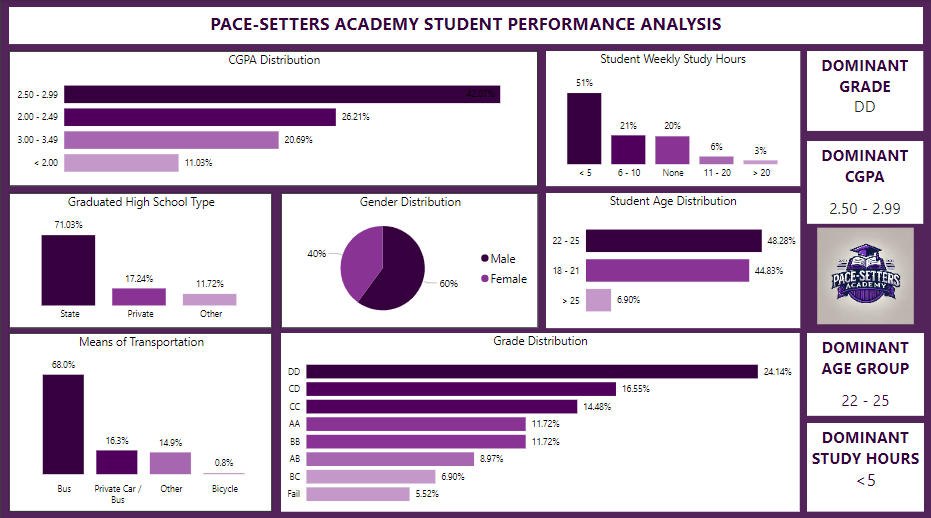

What the dashboard file says about the page in this screenshot:
{"tool":"powerbi","page":{"name":"Page 1","canvas":[1280,720],"ordinal":0},"visuals":[{"type":"columnChart","title":"Means of Transportation","fields":{"Category":["StudentsPerformance_with_headers.Transportation to the university"],"Y":["Sum(StudentsPerformance_with_headers.Taking notes in classes)"]},"box":[11,459.7,362,246.4],"z":0},{"type":"barChart","title":"Distribution of CGPA","fields":{"Y":["CountNonNull(StudentsPerformance_with_headers.Expected Cumulative grade point average in the graduation (/4.00))"],"Category":["StudentsPerformance_with_headers.Expected Cumulative grade point average in the graduation (/4.00)"]},"box":[11,71.6,728.1,185.8],"z":1},{"type":"textbox","box":[11,11,1258,50.9],"z":2},{"type":"pieChart","title":"Gender Distribution","fields":{"Category":["StudentsPerformance_with_headers.Sex"],"Y":["CountNonNull(StudentsPerformance_with_headers.Sex)"]},"box":[385.4,267,353.7,185.8],"z":3},{"type":"barChart","title":"Student Age Distribution","fields":{"Category":["StudentsPerformance_with_headers.Student Age"],"Y":["CountNonNull(StudentsPerformance_with_headers.Student Age)"]},"box":[750.1,267,349.6,185.8],"z":4},{"type":"columnChart","title":"Student Weekly Study Hours","fields":{"Category":["StudentsPerformance_with_headers.Weekly study hours"],"Y":["CountNonNull(StudentsPerformance_with_headers.Weekly study hours)"]},"box":[750.1,71.6,349.6,185.8],"z":5},{"type":"columnChart","title":"Graduated High School Type","fields":{"Category":["StudentsPerformance_with_headers.Graduated high-school type"],"Y":["CountNonNull(StudentsPerformance_with_headers.Graduated high-school type)"]},"box":[11,267,362,185.8],"z":6},{"type":"barChart","title":"Grade Distribution","fields":{"Category":["StudentsPerformance_with_headers.GRADE"],"Y":["CountNonNull(StudentsPerformance_with_headers.GRADE)"]},"box":[385.4,459.7,714.3,246.4],"z":7},{"type":"textbox","box":[1109.3,71.6,159.7,110.1],"z":8},{"type":"textbox","box":[1109.3,195.4,159.7,114.2],"z":9},{"type":"textbox","box":[1109.3,583.6,159.7,122.5],"z":10},{"type":"textbox","box":[1109.3,452.8,159.7,121.1],"z":11},{"type":"image","box":[1109.3,309.7,161,143.1],"z":12}]}

Visuals, with their boxes in screenshot pixels (x1, y1, x2, y2), scaled from the page's 1280x720 canvas onto the 931x518 screenshot:
"Means of Transportation" columnChart: bbox(8, 331, 271, 508)
"Distribution of CGPA" barChart: bbox(8, 52, 538, 185)
textbox: bbox(8, 8, 923, 45)
"Gender Distribution" pieChart: bbox(280, 192, 538, 326)
"Student Age Distribution" barChart: bbox(546, 192, 800, 326)
"Student Weekly Study Hours" columnChart: bbox(546, 52, 800, 185)
"Graduated High School Type" columnChart: bbox(8, 192, 271, 326)
"Grade Distribution" barChart: bbox(280, 331, 800, 508)
textbox: bbox(807, 52, 923, 131)
textbox: bbox(807, 141, 923, 223)
textbox: bbox(807, 420, 923, 508)
textbox: bbox(807, 326, 923, 413)
image: bbox(807, 223, 924, 326)
